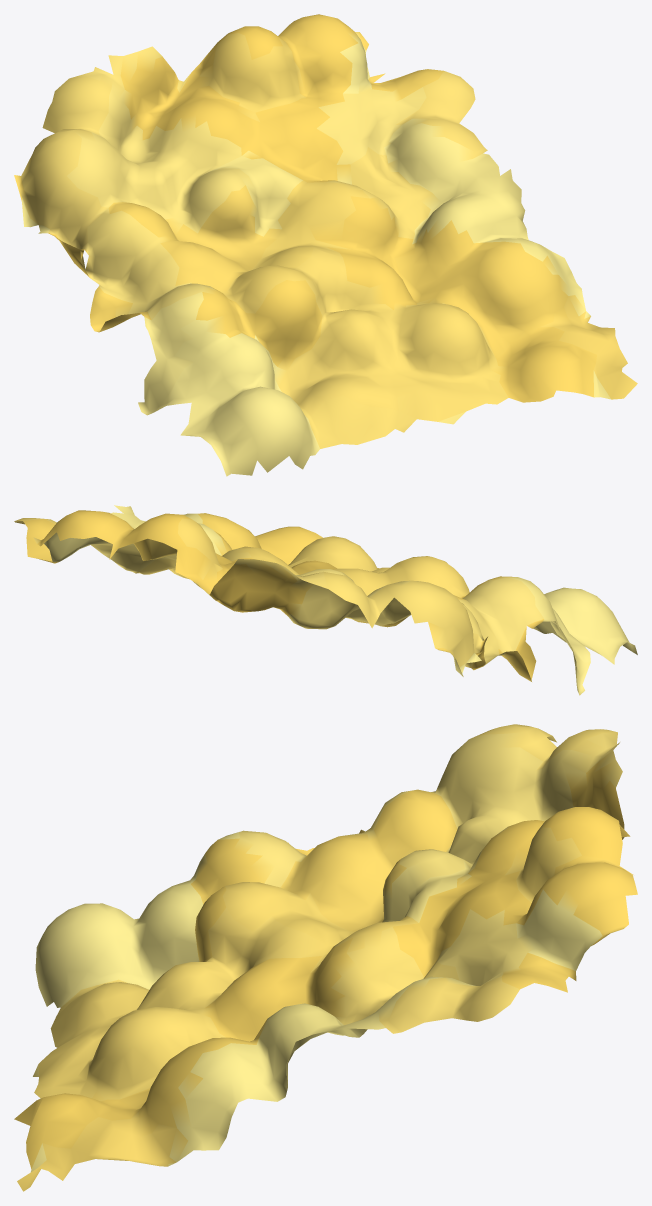
File: scoop_fill_mesh.fbx
The picture shows the model from 3 angles, top to bottom: view 1: azimuth 30°, elevation 25°; view 2: azimuth 150°, elevation 25°; view 3: azimuth 270°, elevation 25°; orthographic projection. The views are drawn at different scales.
Parts seen in each view (by area): view 1: Scoop_Fill; view 2: Scoop_Fill; view 3: Scoop_Fill.
Part boxes in pixels (<box>): Scoop_Fill: <box>14,14,637,476</box>; Scoop_Fill: <box>14,505,637,695</box>; Scoop_Fill: <box>14,724,637,1191</box>.
Bounding box in the file's own units: 63.22 × 32.7 × 62.57.
Materials: 1 (1 with a texture image).
